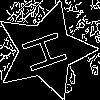H: (20, 25, 77, 75)
